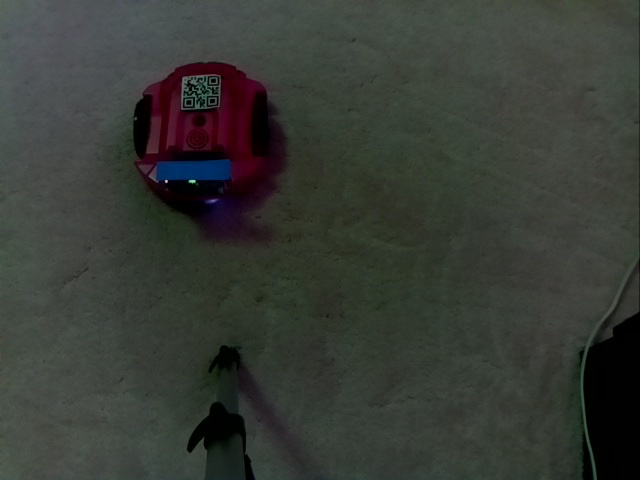chassis: (128, 56, 273, 198)
qr: (179, 70, 221, 113)
